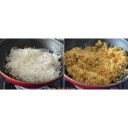idiyappam: (8, 46, 61, 81)
